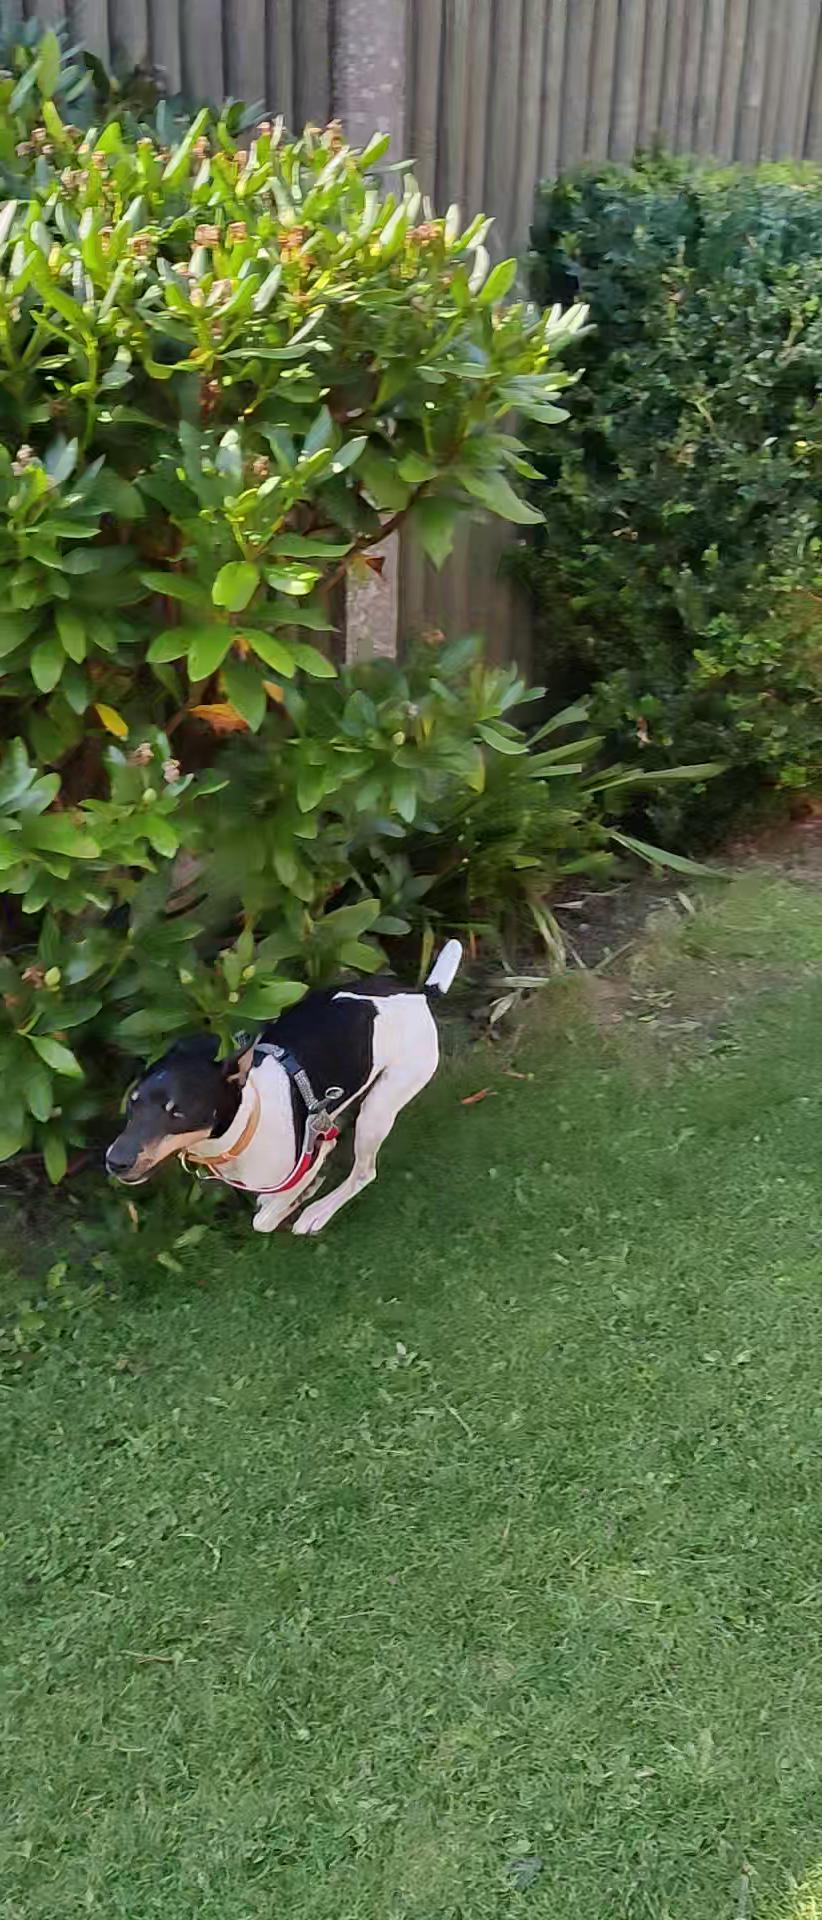Dog: (94, 931, 481, 1251)
